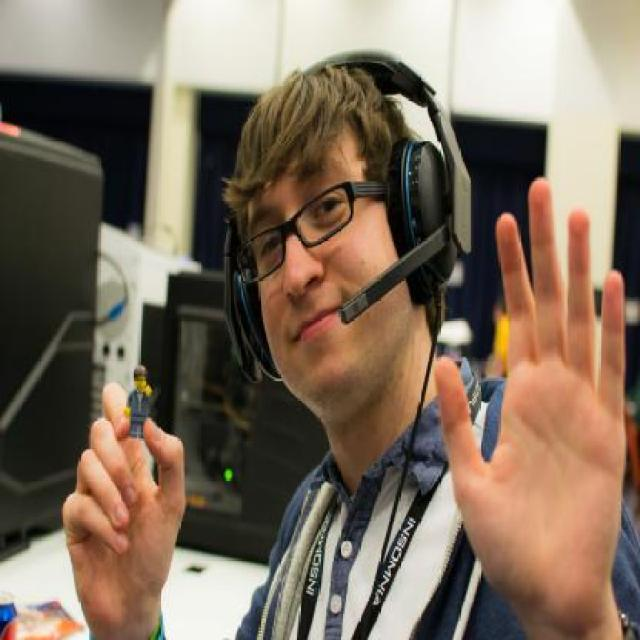earphone: (183, 42, 488, 348)
